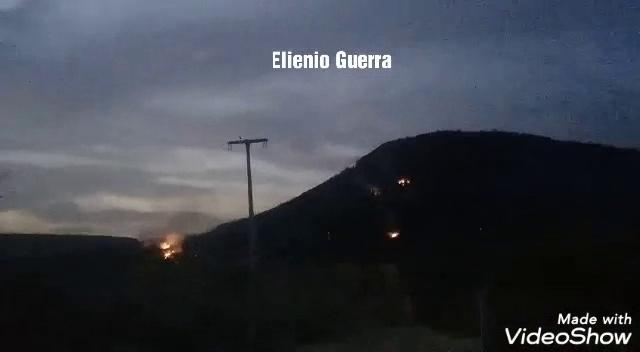fire: (156, 234, 175, 261)
